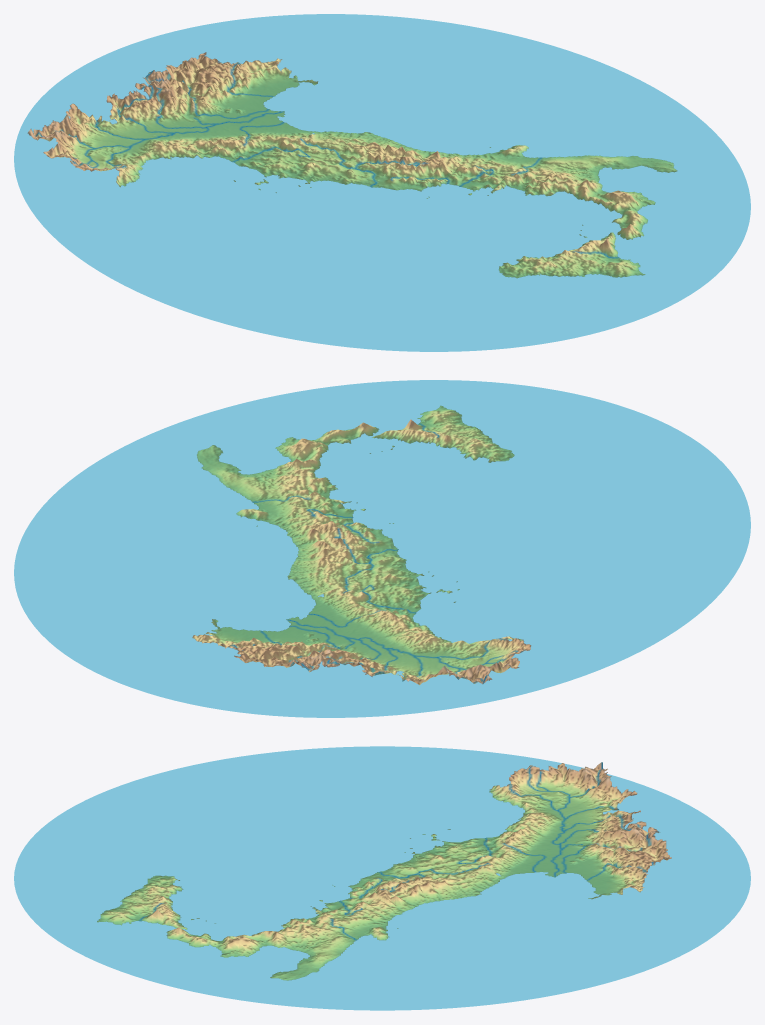
File: ITA-terrain.glb
3 views of the same model, one above another, from view 1: azimuth 30°, elevation 25°; view 2: azimuth 150°, elevation 25°; view 3: azimuth 270°, elevation 25° (orthographic). The views are drawn at different scales.
Parts seen in each view (by area): view 1: Relevo com hidrografia; view 2: Relevo com hidrografia; view 3: Relevo com hidrografia.
Boxes of the visible parts, x1,y1,x2,y2 form: Relevo com hidrografia: [14, 14, 750, 351]; Relevo com hidrografia: [14, 380, 750, 717]; Relevo com hidrografia: [14, 746, 750, 1010].
Size of the model in its own units: 1.75 by 0.0608 by 2.06.
2 materials, 1 textured.
